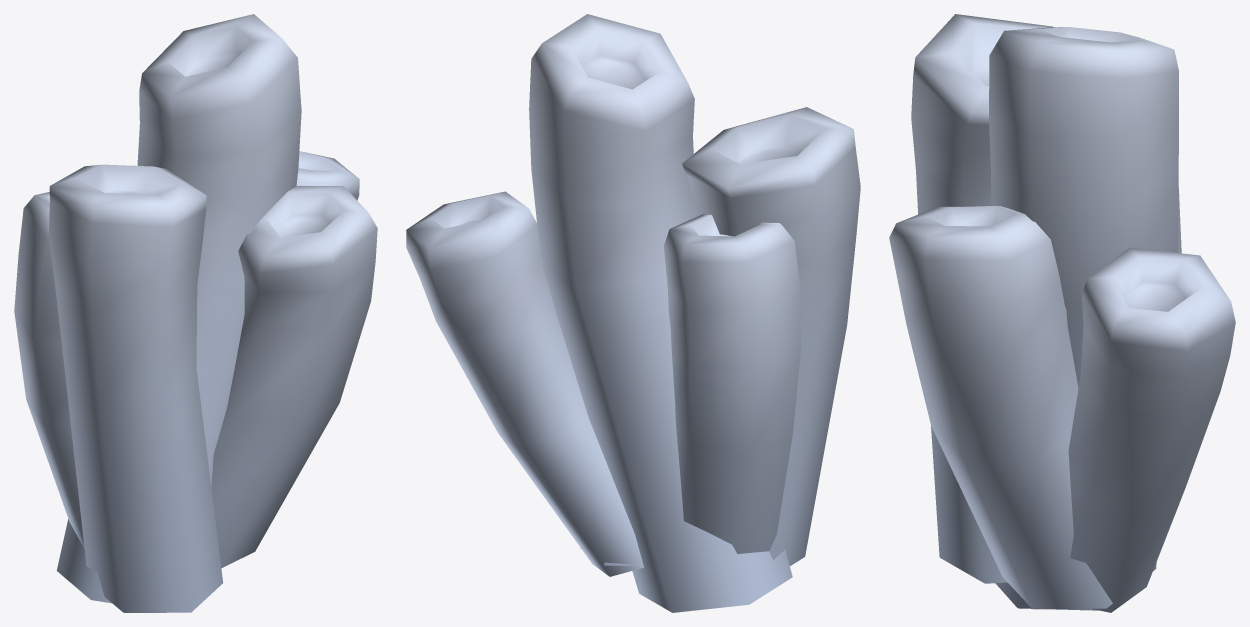
Rendered from CoralAA.fbx.
3 views of the same model, side by side, from view 1: azimuth 30°, elevation 25°; view 2: azimuth 150°, elevation 25°; view 3: azimuth 270°, elevation 25° (orthographic). The views are drawn at different scales.
Visible parts, largest first — view 1: CoralAA; view 2: CoralAA; view 3: CoralAA.
Boxes of the visible parts, x1=… form: CoralAA: x1=14, y1=14, x2=377, y2=612; CoralAA: x1=406, y1=14, x2=860, y2=612; CoralAA: x1=889, y1=14, x2=1235, y2=612.
Bounding box in the file's own units: 18.53 × 27 × 13.85.
1 material, 1 textured.
